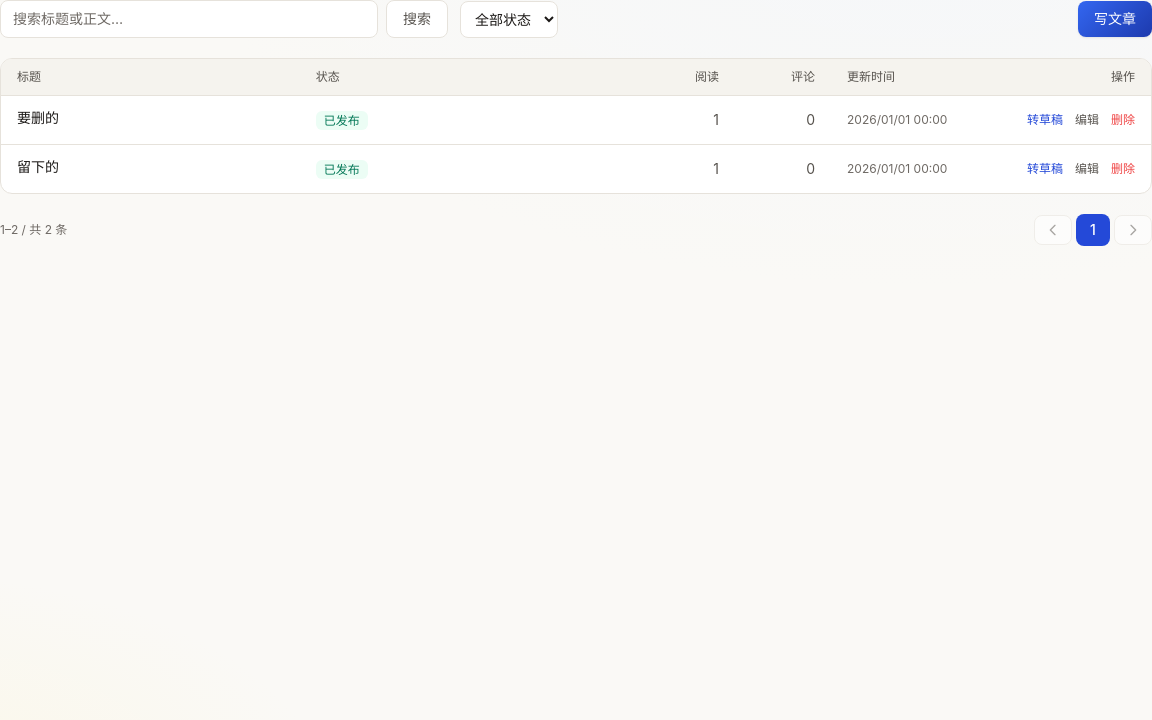
it: ArticleListView · 删除 › 确认删除：DELETE 打到正确地址，成功后关框、提示、重新拉取列表（被删的行消失）
The image size is (1152, 720).
Click the button "删除" in the row of "要删的": (1123, 120) [1111,112,1135,128]
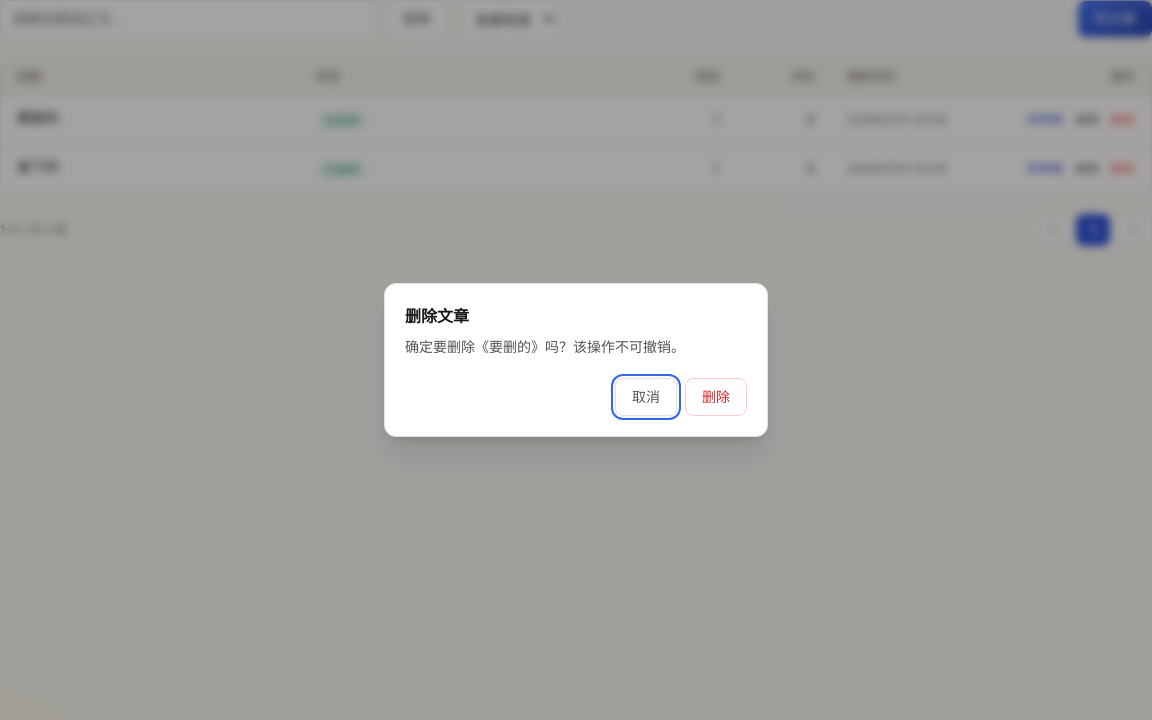
Click the button "删除": (716, 397) [685,378,747,416]
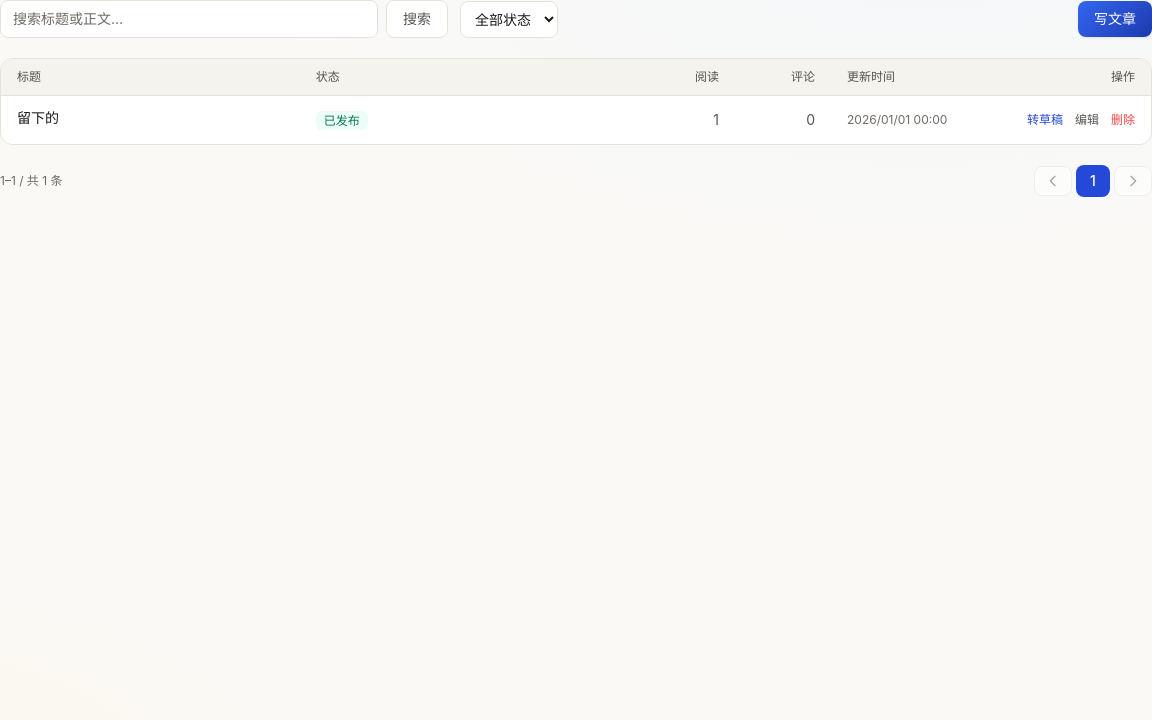
Now the dialog is gone
